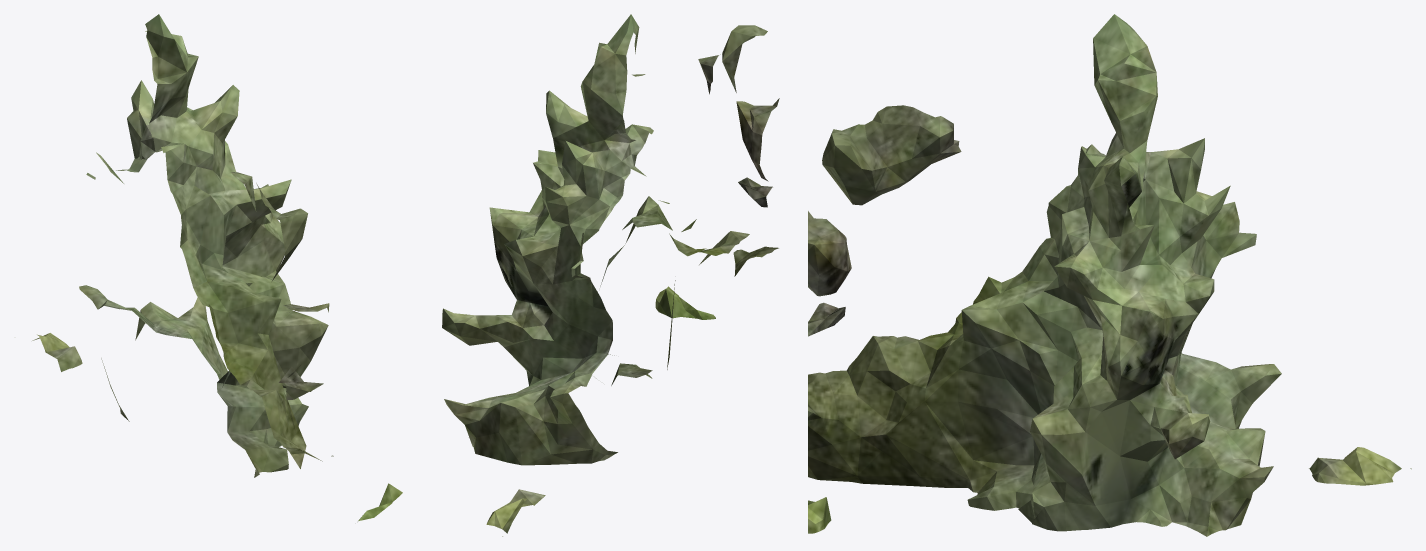
3 renders of one model, left to right at view 1: azimuth 30°, elevation 25°; view 2: azimuth 150°, elevation 25°; view 3: azimuth 270°, elevation 25°, orthographic. The views are drawn at different scales.
Bounding box in the file's own units: 3.75 × 9.35 × 11.15.
2 materials, 2 textured.
